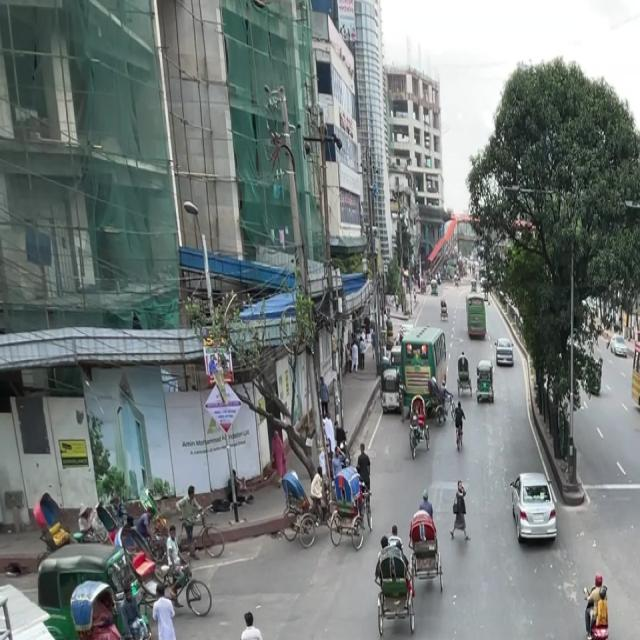bicycle: (158, 553, 213, 617), (448, 396, 468, 456)
bus: (402, 325, 448, 412), (626, 338, 640, 437), (464, 288, 488, 342)
car: (505, 464, 566, 550), (494, 333, 520, 372)
motorbike: (578, 568, 620, 640)
rickshaw: (471, 356, 498, 411)
